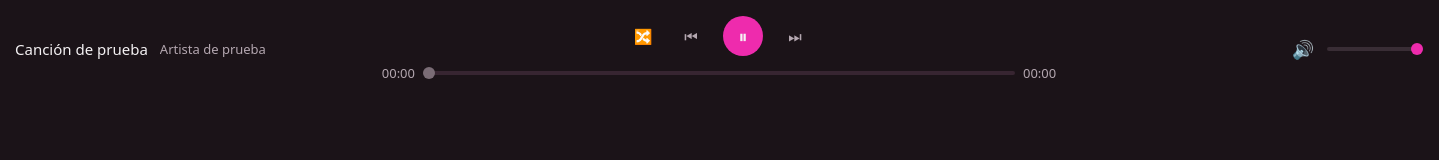
Test: PlayerBar › toggles between play and pause affordances (2.3, 2.4)
This screenshot has width=1439, height=160.
Note: While playing, the button pauses.
Step 1. Click the button named "Pausar" → [743, 36], box [723,16,763,56]
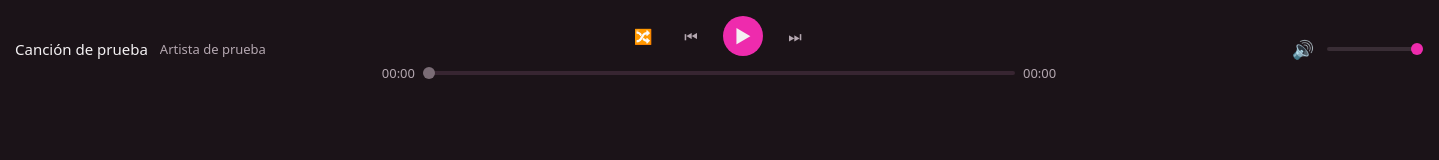
Expected: the button named "Reproducir" is shown, [723,16,763,56]
